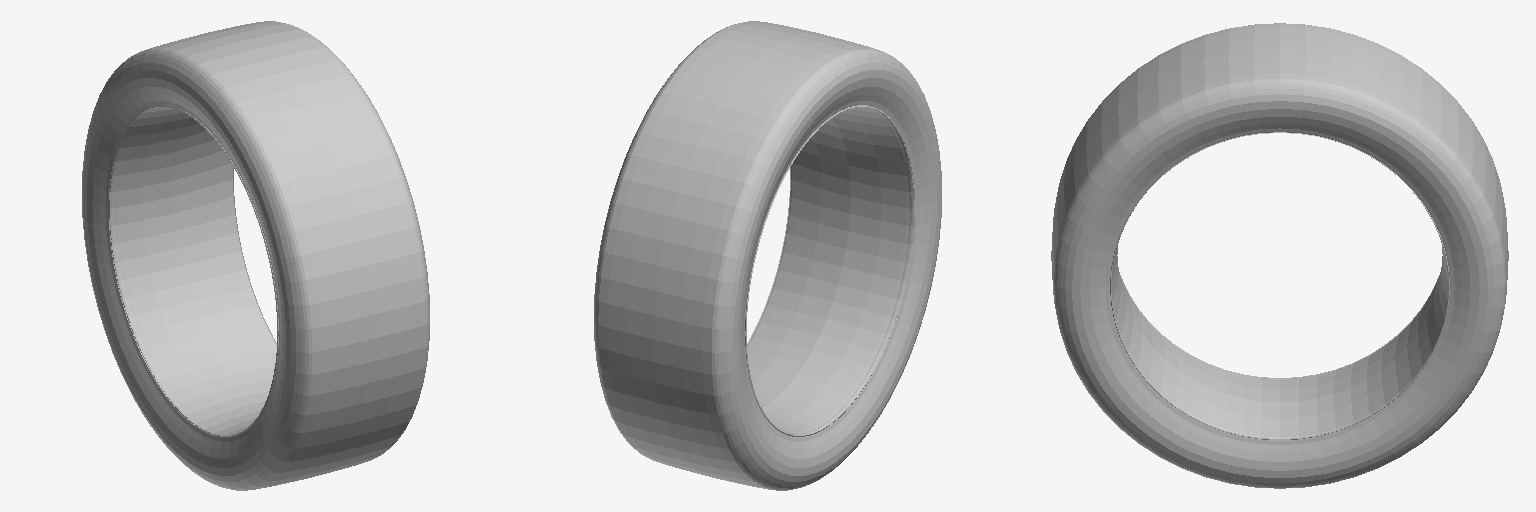
File: cauciuc.obj
The picture shows the model from 3 angles: view 1: azimuth 30°, elevation 25°; view 2: azimuth 150°, elevation 25°; view 3: azimuth 270°, elevation 25°; orthographic projection.
Visible parts, largest first — view 1: Audi_A6.001, Audi_A6; view 2: Audi_A6.001, Audi_A6; view 3: Audi_A6.001, Audi_A6.
Part boxes in pixels (left/top/right/bottom): Audi_A6.001: left=82, top=21, right=429, bottom=490; Audi_A6: left=108, top=104, right=278, bottom=437; Audi_A6.001: left=594, top=21, right=941, bottom=490; Audi_A6: left=745, top=104, right=915, bottom=437; Audi_A6.001: left=1051, top=23, right=1508, bottom=488; Audi_A6: left=1110, top=132, right=1449, bottom=439.
Size of the model in its own units: 7.77 by 22.15 by 22.15.